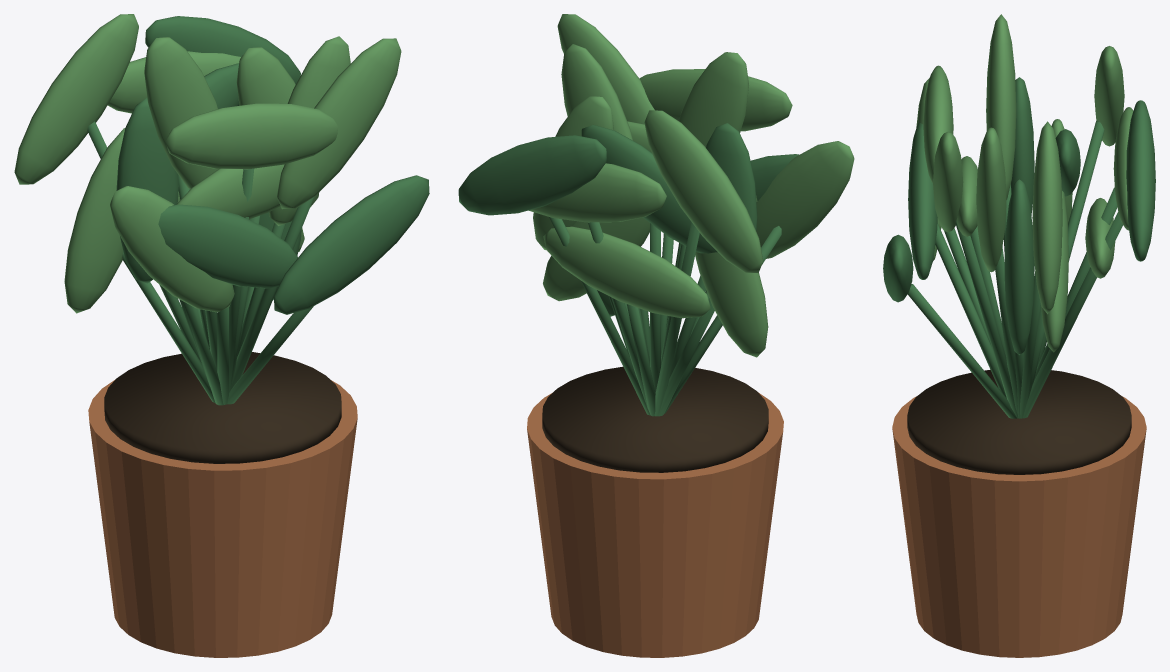
The model's file is leafy-planter.glb.
3 renders of one model, left to right at view 1: azimuth 30°, elevation 25°; view 2: azimuth 150°, elevation 25°; view 3: azimuth 270°, elevation 25°, orthographic. The views are drawn at different scales.
Parts seen in each view (by area): view 1: Cone; view 2: Cone; view 3: Cone.
Boxes of the visible parts, x1=… form: Cone: x1=14, y1=14, x2=429, y2=657; Cone: x1=458, y1=14, x2=854, y2=657; Cone: x1=883, y1=14, x2=1155, y2=657.
Bounding box in the file's own units: 0.5422 × 1.03 × 0.4501.
